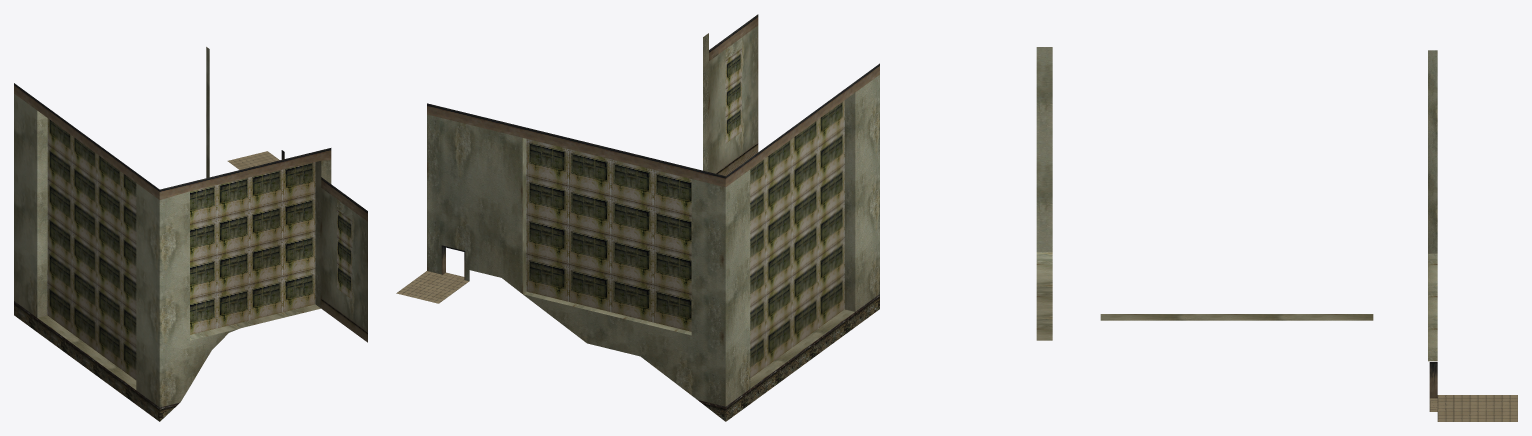
File: M10_Z01_17_NewBild04.glb
3 views of the same model, side by side, from view 1: azimuth 30°, elevation 25°; view 2: azimuth 150°, elevation 25°; view 3: azimuth 270°, elevation 25° (orthographic). The views are drawn at different scales.
Parts seen in each view (by area): view 1: M10_Z01_17_NEWBILD04; view 2: M10_Z01_17_NEWBILD04; view 3: M10_Z01_17_NEWBILD04.
Part boxes in pixels (x1,y1,x2,y2): M10_Z01_17_NEWBILD04: (14, 47, 367, 421); M10_Z01_17_NEWBILD04: (396, 14, 879, 421); M10_Z01_17_NEWBILD04: (1036, 47, 1517, 421).
Bounding box in the file's own units: 28 × 22 × 38.
6 materials, 6 textured.
